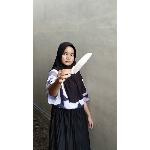Pisau: (61, 52, 96, 84)
